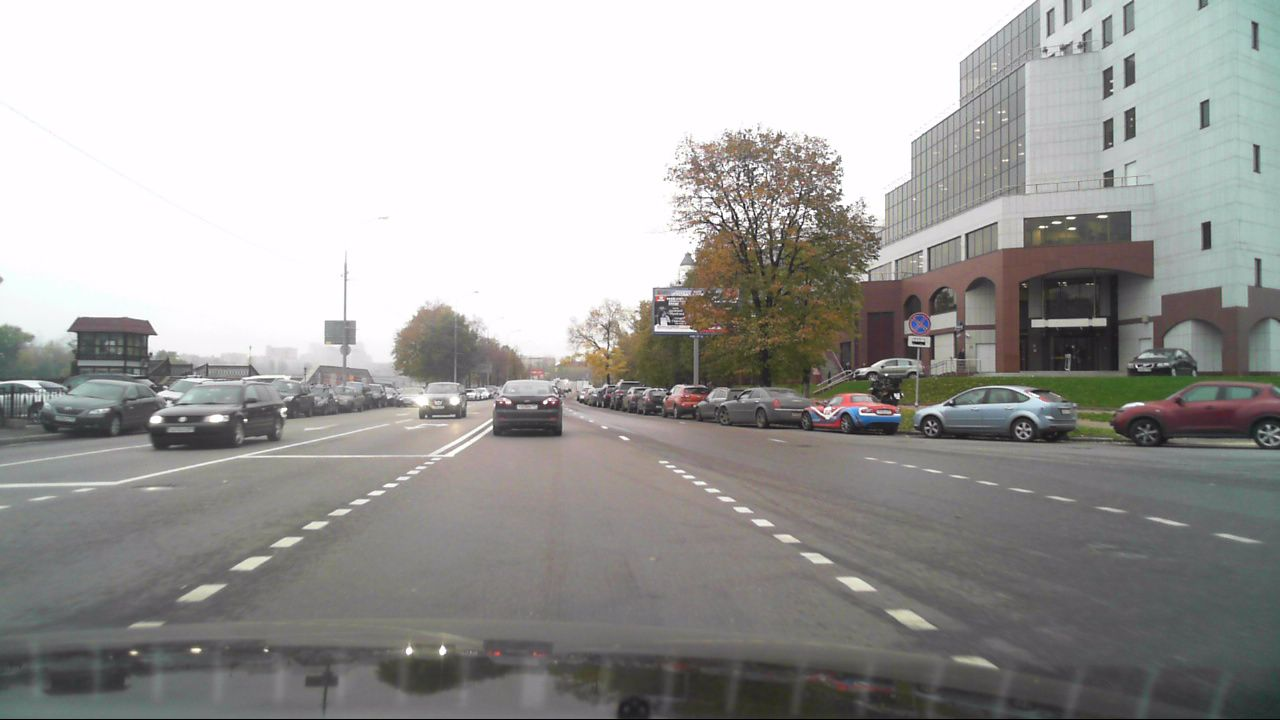No Parking: (907, 311, 932, 335)
